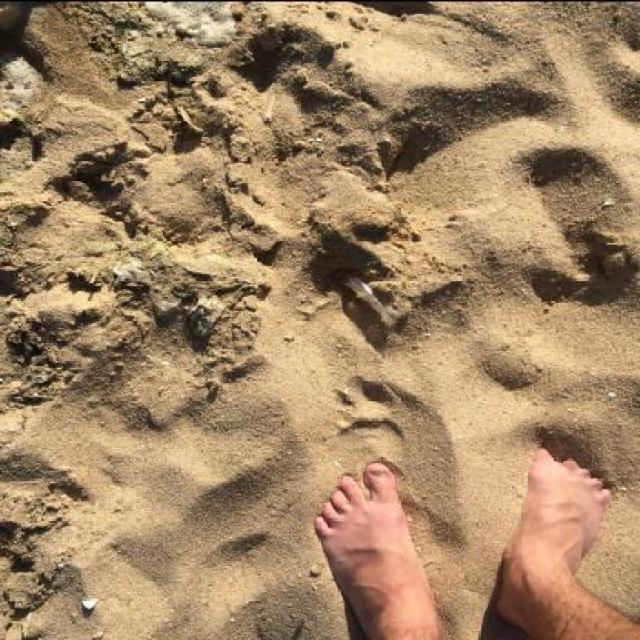plastic: (341, 272, 399, 322)
